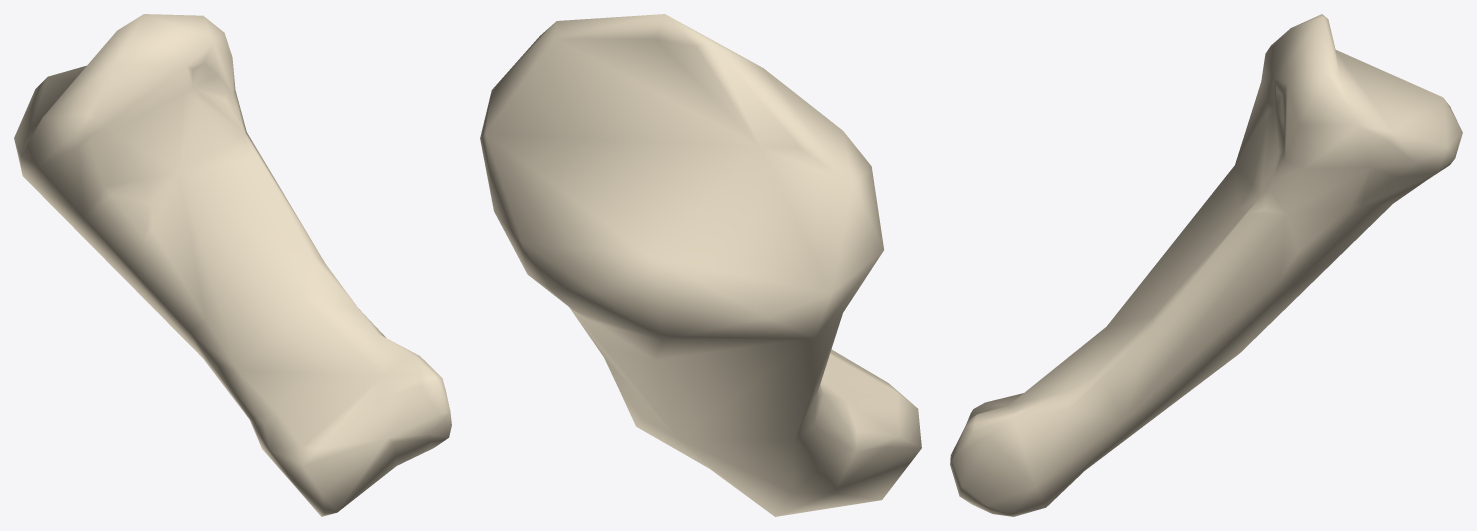
The model's file is middle-phalanx-of-second-finger-of-hand-l.glb.
The picture shows the model from 3 angles, left to right: view 1: azimuth 30°, elevation 25°; view 2: azimuth 150°, elevation 25°; view 3: azimuth 270°, elevation 25°; orthographic projection. The views are drawn at different scales.
Parts seen in each view (by area): view 1: Middle phalanx of second finger of hand.l; view 2: Middle phalanx of second finger of hand.l; view 3: Middle phalanx of second finger of hand.l.
Part boxes in pixels (x1,y1,x2,y2): Middle phalanx of second finger of hand.l: (14, 14, 451, 516); Middle phalanx of second finger of hand.l: (480, 14, 921, 516); Middle phalanx of second finger of hand.l: (950, 14, 1462, 516).
Size of the model in its own units: 0.0151 by 0.0213 by 0.0216.
